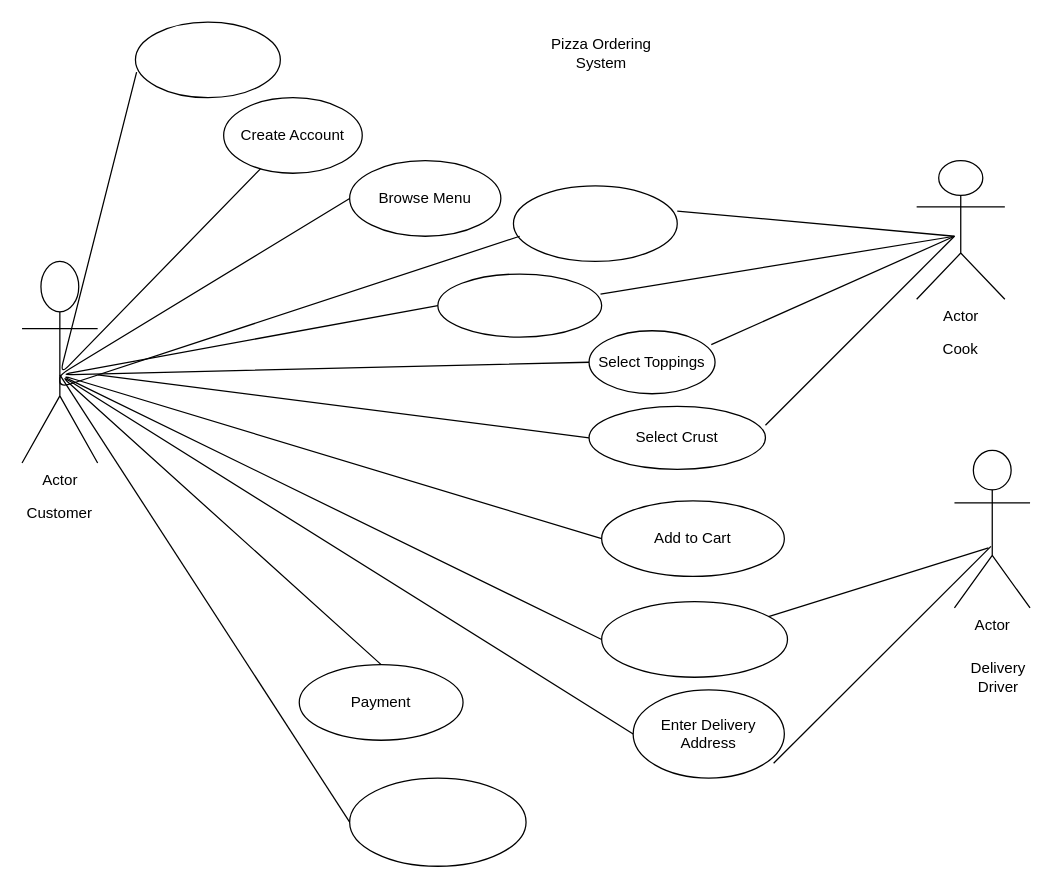
The diagram is 1052 pixels wide and 888 high, and some of its shapes have lost their labels. Here are the shapes that lost their labels. From the top down, the box of each, then its label:
(134, 21, 280, 98): Sign In
(512, 185, 677, 261): Select Pizza
(437, 273, 602, 337): Create Own Pizza
(600, 600, 788, 677): Checkout
(348, 777, 526, 866): Submit Order
